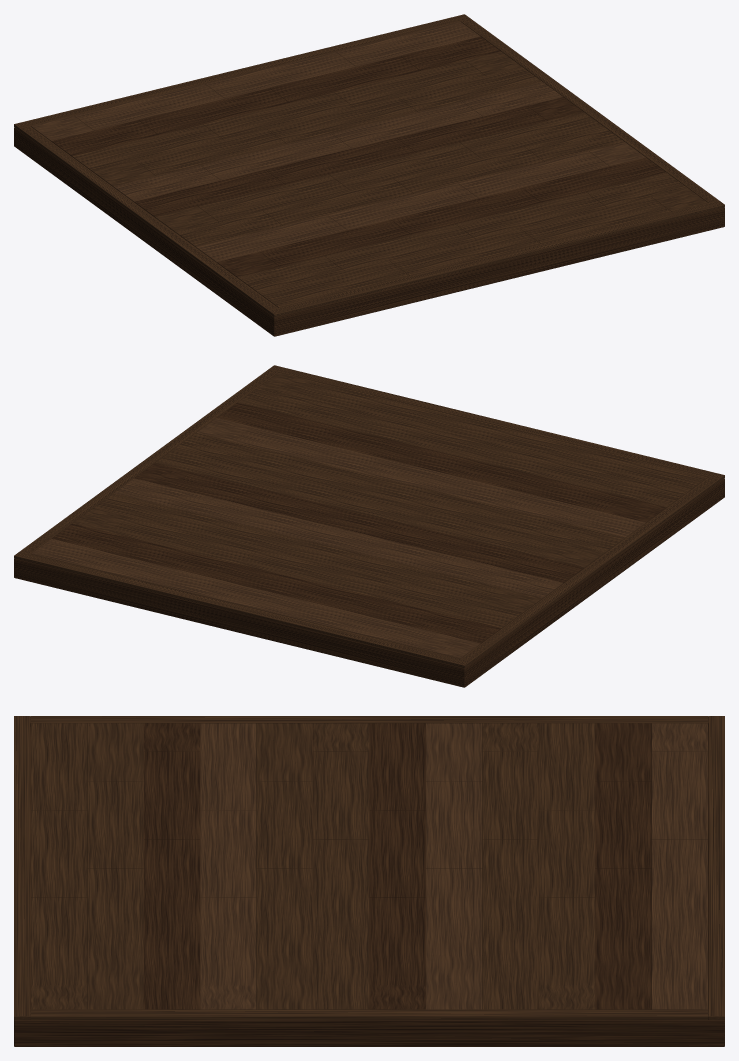
File: chao.glb
3 views of the same model, one above another, from view 1: azimuth 30°, elevation 25°; view 2: azimuth 150°, elevation 25°; view 3: azimuth 270°, elevation 25° (orthographic). The views are drawn at different scales.
Parts seen in each view (by area): view 1: chao; view 2: chao; view 3: chao.
Boxes of the visible parts, bbox=[...] form: chao: bbox=[14, 14, 724, 336]; chao: bbox=[14, 365, 724, 687]; chao: bbox=[14, 716, 724, 1046].
Bounding box in the file's own units: 4.2 × 0.2 × 4.2.
3 materials, 3 textured.
